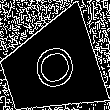O_W: (23, 39, 78, 97)
